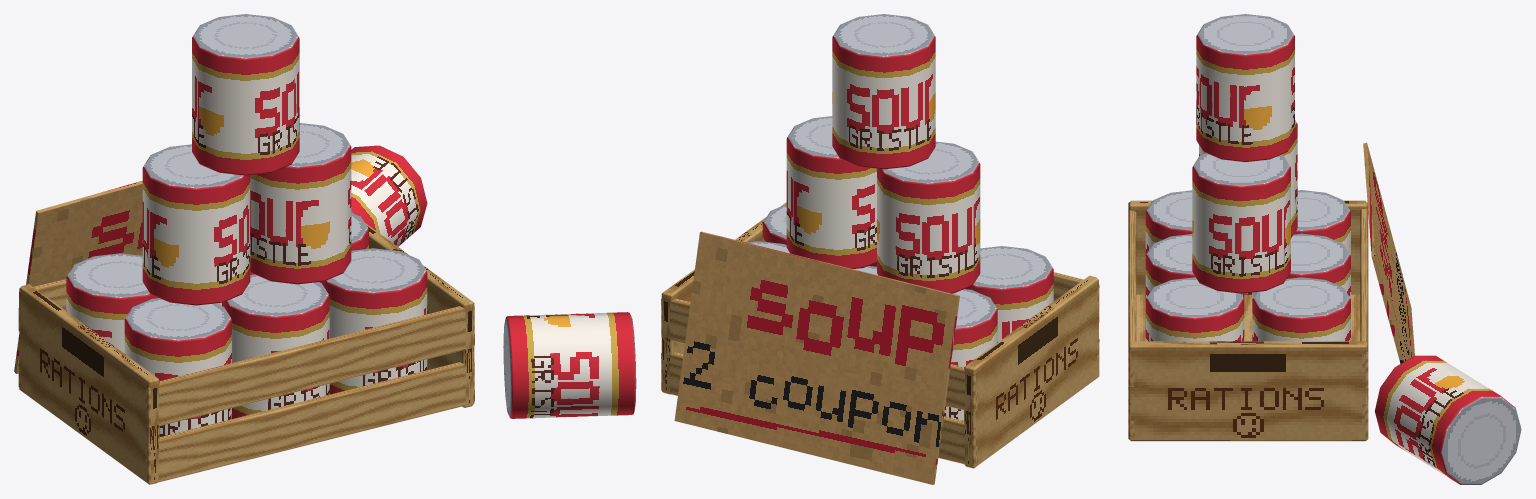
Rendered from s_crate_soup.glb.
The picture shows the model from 3 angles, left to right: view 1: azimuth 30°, elevation 25°; view 2: azimuth 150°, elevation 25°; view 3: azimuth 270°, elevation 25°; orthographic projection. The views are drawn at different scales.
Visible parts, largest first — view 1: s_crate_soup_mesh; view 2: s_crate_soup_mesh; view 3: s_crate_soup_mesh.
Part boxes in pixels (left/top/right/bottom): s_crate_soup_mesh: left=14, top=14, right=474, bottom=484; s_crate_soup_mesh: left=503, top=14, right=1099, bottom=484; s_crate_soup_mesh: left=1128, top=14, right=1521, bottom=484.
Size of the model in its own units: 0.7146 by 0.5599 by 0.5902.
Materials: 2 (2 with a texture image).
